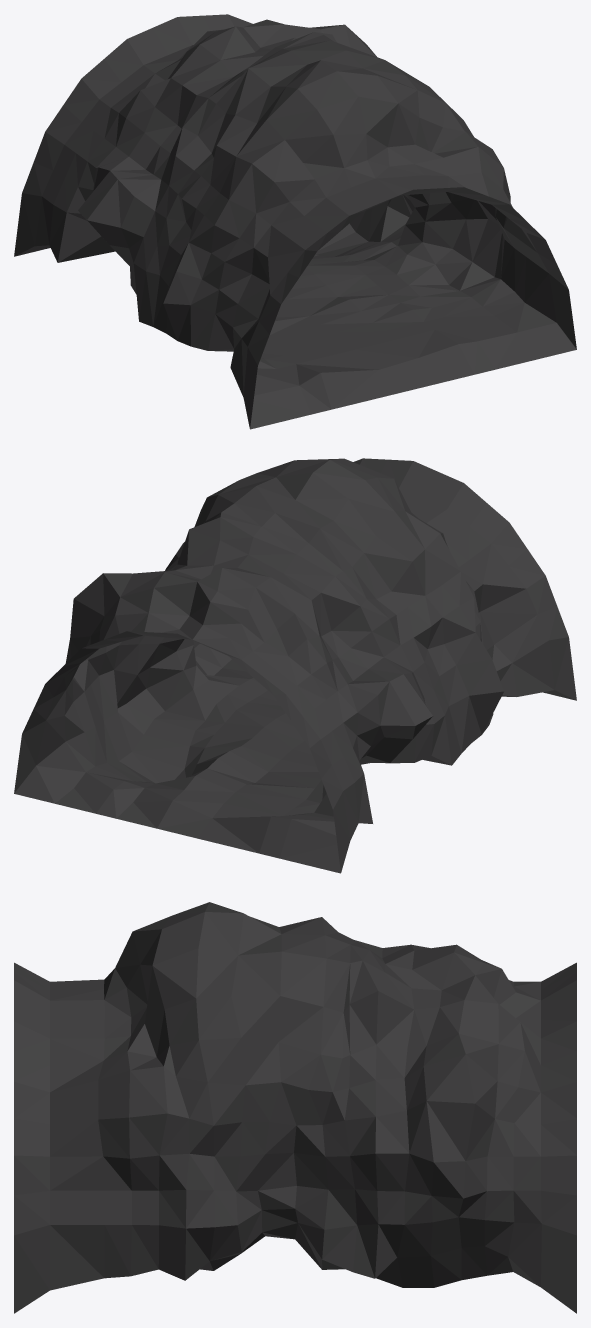
Rendered from Cave_1.fbx.
The picture shows the model from 3 angles, top to bottom: view 1: azimuth 30°, elevation 25°; view 2: azimuth 150°, elevation 25°; view 3: azimuth 270°, elevation 25°; orthographic projection. The views are drawn at different scales.
Parts seen in each view (by area): view 1: pCylinder2; view 2: pCylinder2; view 3: pCylinder2.
Boxes of the visible parts, x1,y1,x2,y2 form: pCylinder2: (14,14,576,429); pCylinder2: (14,458,576,873); pCylinder2: (14,902,576,1313).
Size of the model in its own units: 8.5 by 6.62 by 10.32.
